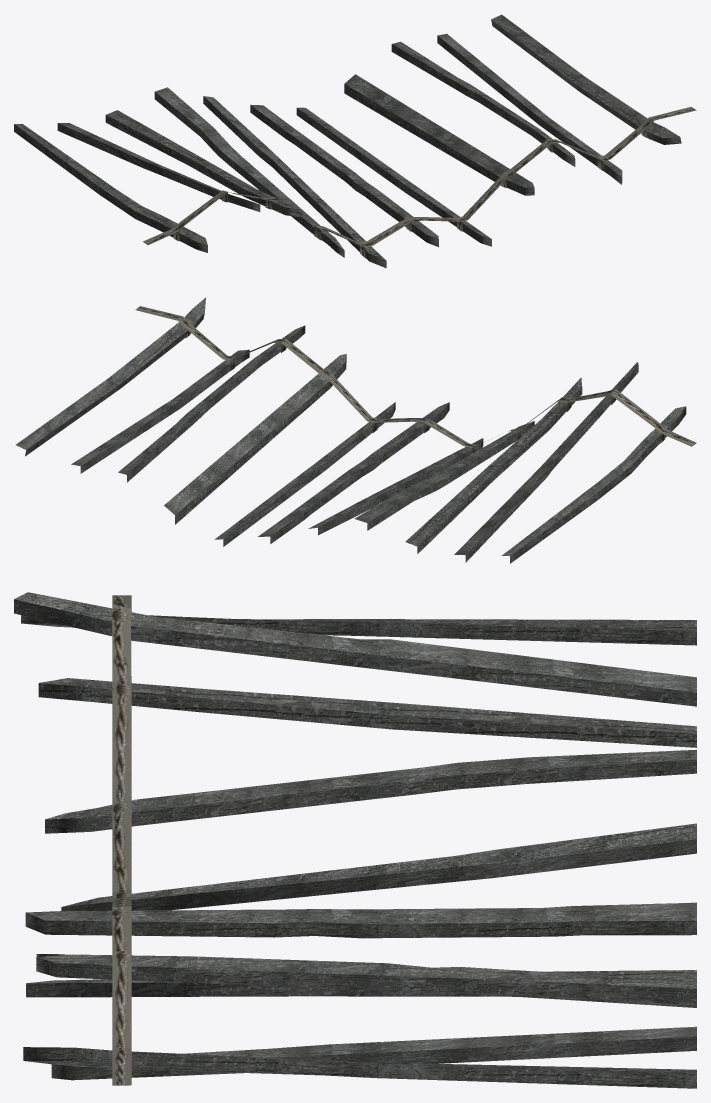
The model's file is caen_fence_1.glb.
The picture shows the model from 3 angles, top to bottom: view 1: azimuth 30°, elevation 25°; view 2: azimuth 150°, elevation 25°; view 3: azimuth 270°, elevation 25°; orthographic projection. The views are drawn at different scales.
Size of the model in its own units: 89.87 by 17.01 by 52.68.
Materials: 1 (1 with a texture image).
